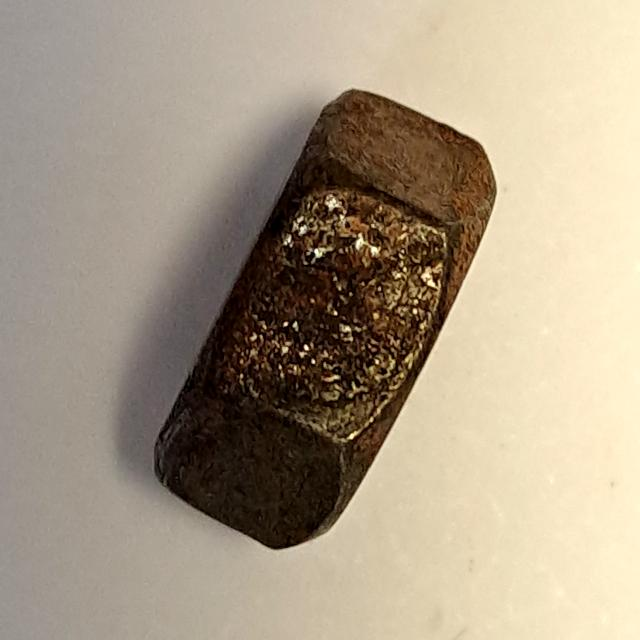Side_Rust: (139, 83, 511, 565)
